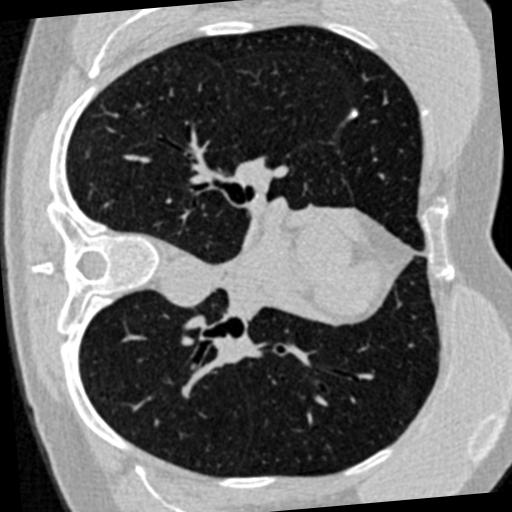nodule: (349, 108, 362, 121)
